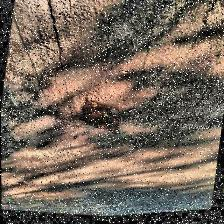pothole: (74, 92, 128, 140)
